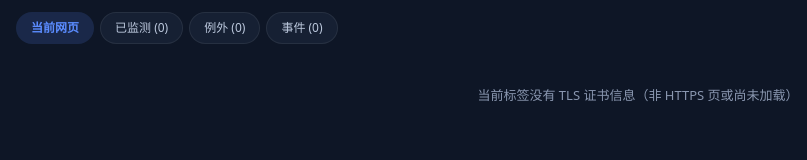
例外页签 › 空列表显示空态
Click the button "例外 (0)". click: [225, 28]
box: [189, 12, 260, 44]
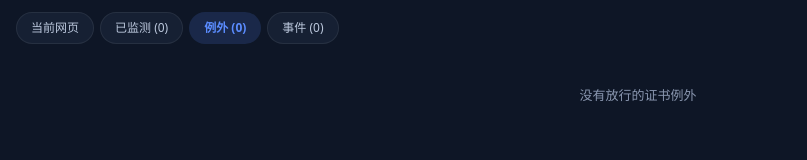
Expected: the text with class "cert-empty" reads "没有放行的证书例外", [580, 86, 696, 104]
